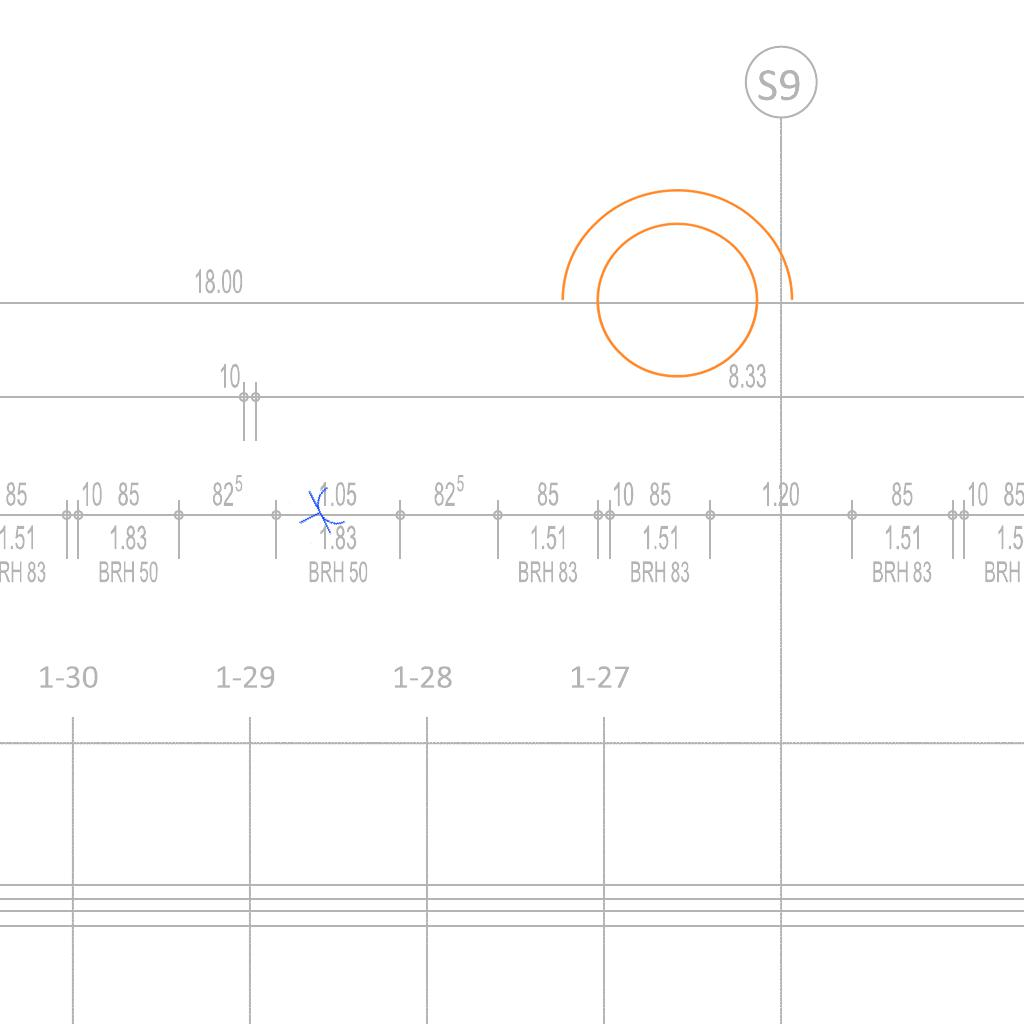Scheinwerfer_fuer_Alarmbeleuchtung: (539, 178, 803, 403)
Schukosteckdose_einfach: (288, 481, 350, 546)
